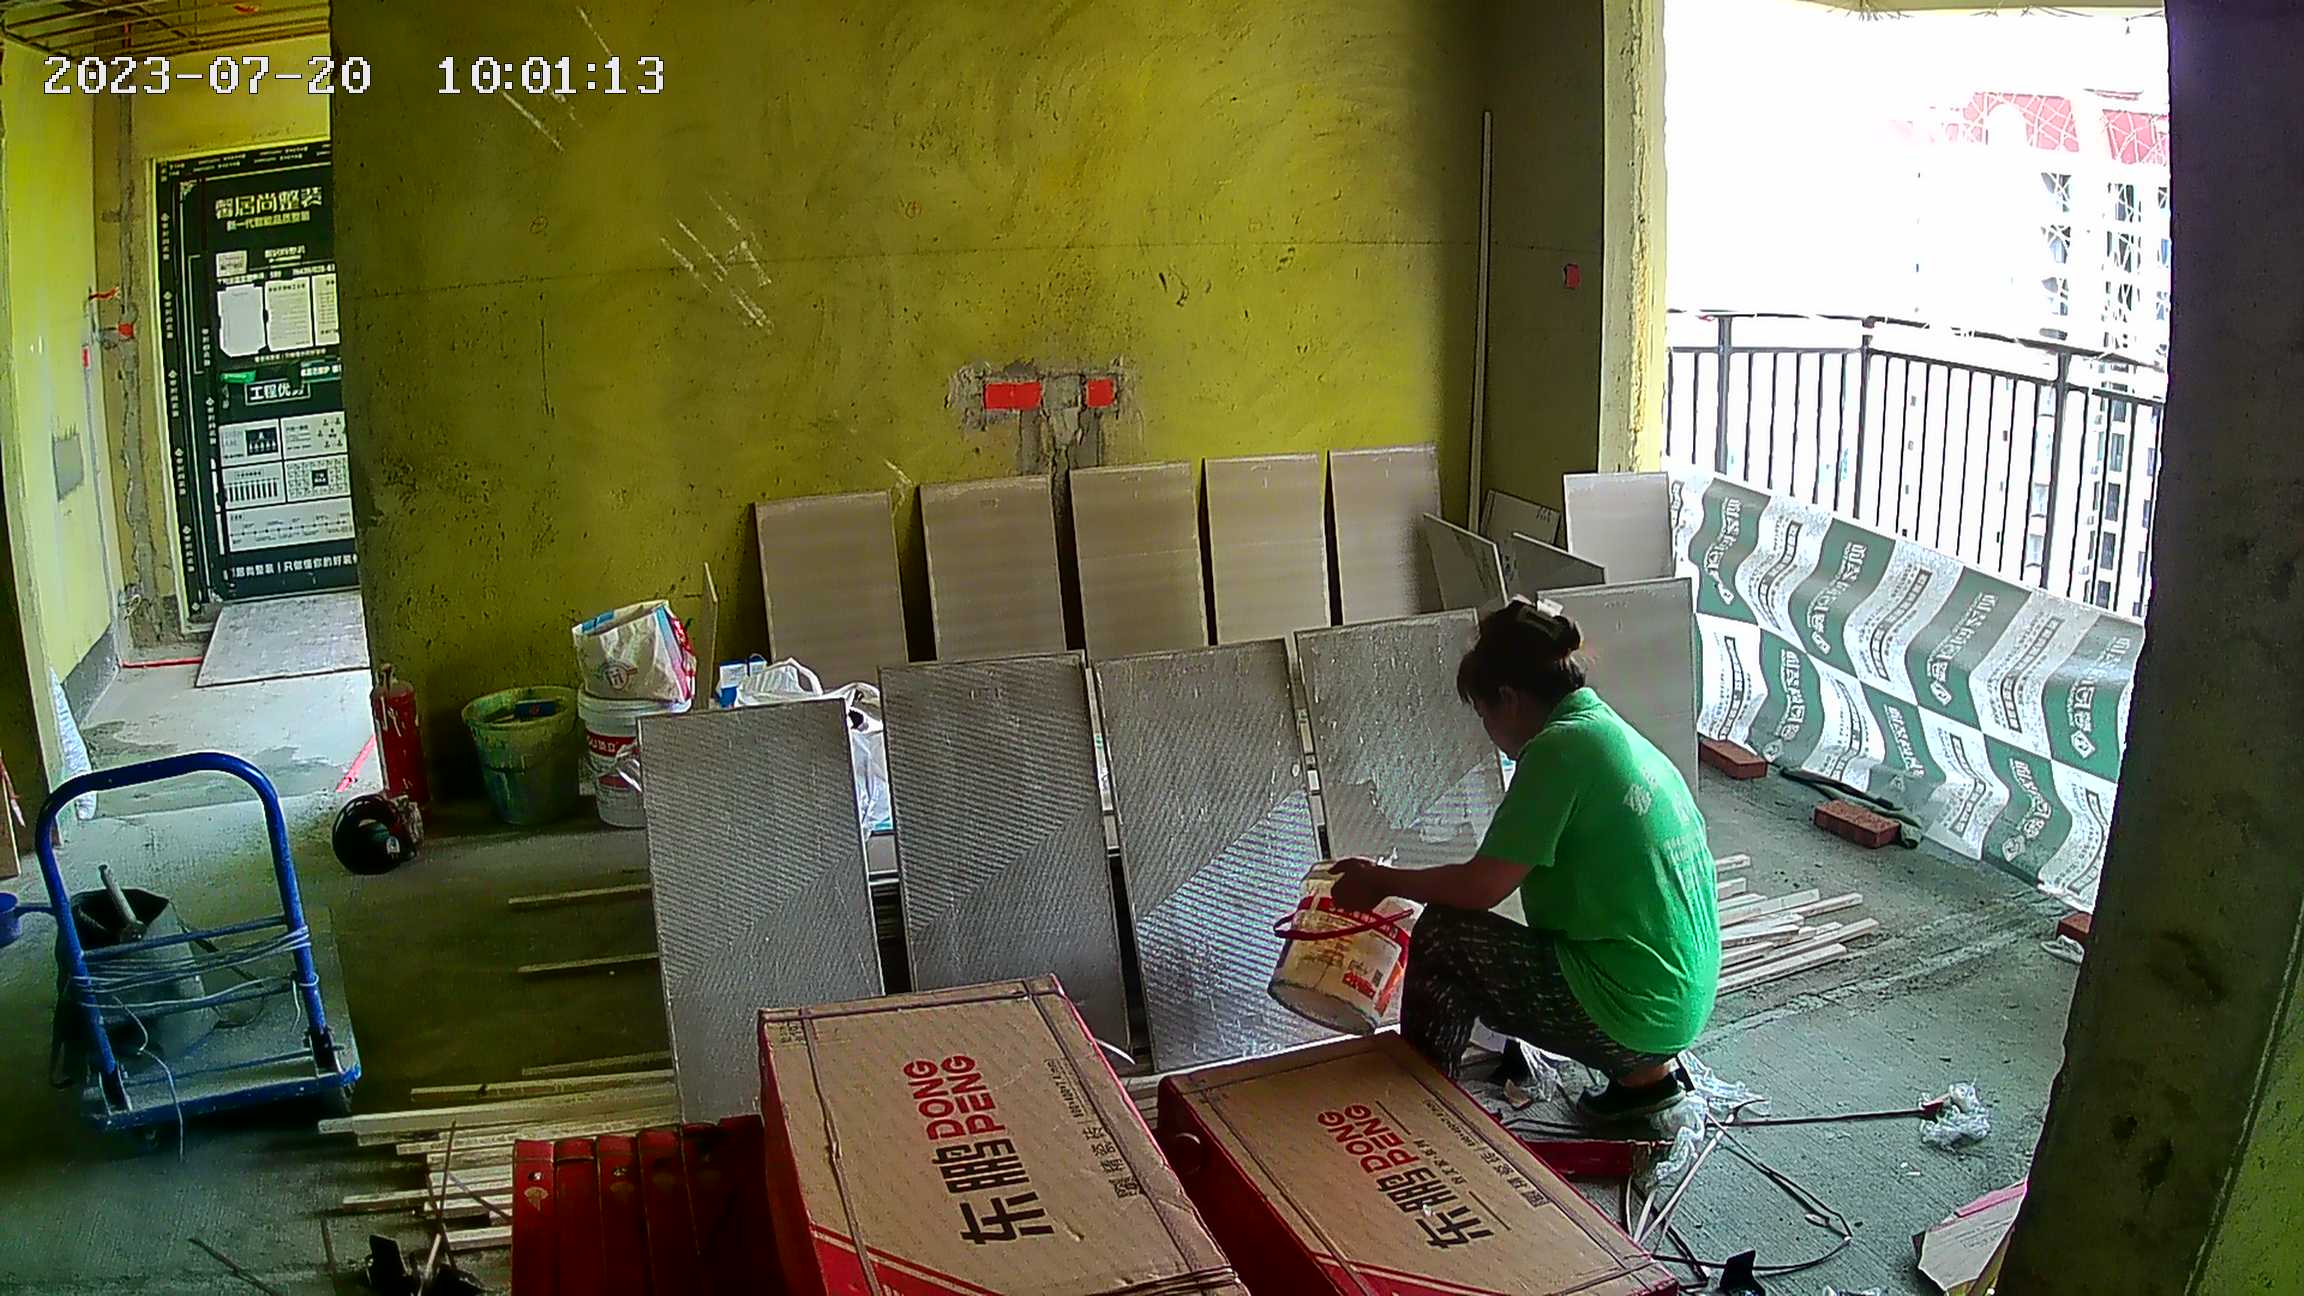people: (1330, 608, 1702, 1129)
window: (1668, 6, 2163, 629)
